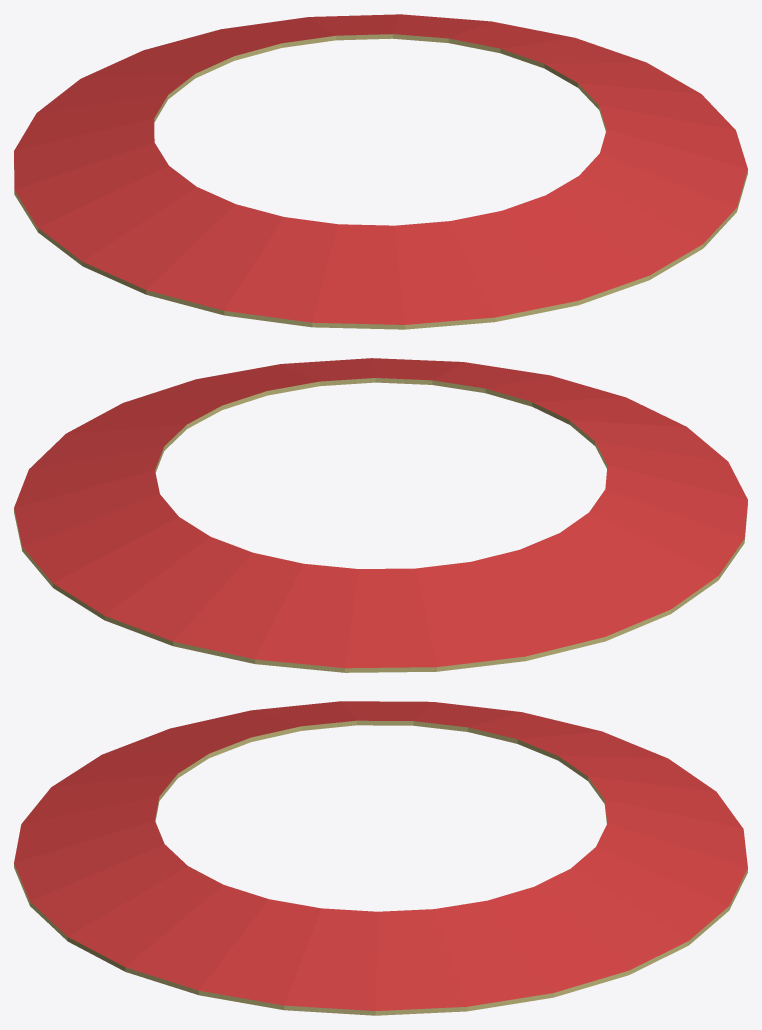
The picture shows the model from 3 angles, top to bottom: view 1: azimuth 30°, elevation 25°; view 2: azimuth 150°, elevation 25°; view 3: azimuth 270°, elevation 25°; orthographic projection.
Size of the model in its own units: 14.33 by 14.34 by 0.957.
